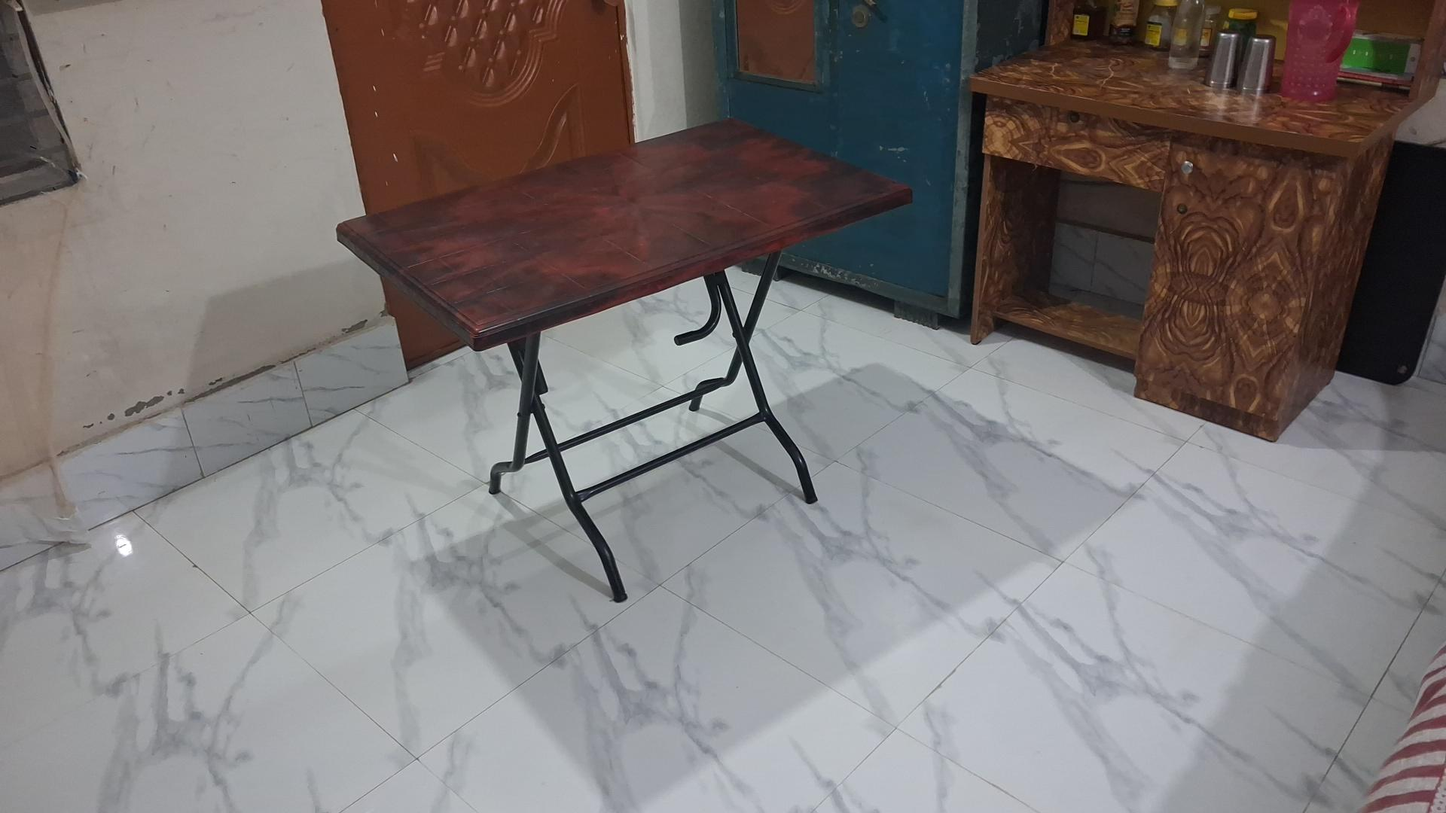Bottle: (1166, 0, 1203, 70)
Glass: (1243, 33, 1274, 97), (1209, 26, 1237, 89)
Jug: (1284, 5, 1359, 107)
Table: (326, 129, 910, 585)
